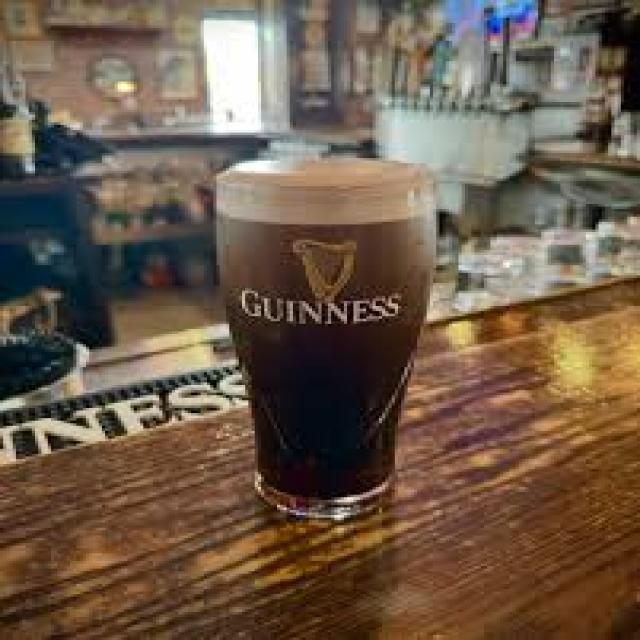guiness_full_glass: (215, 153, 431, 515)
